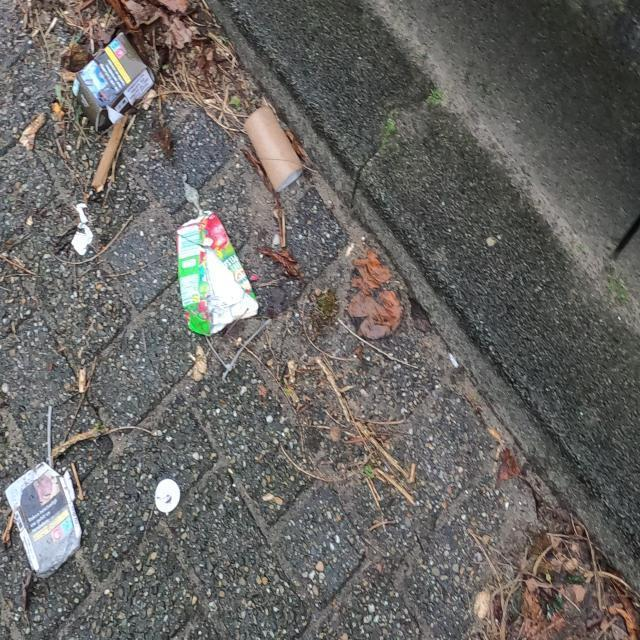Paper: (2, 458, 86, 581), (72, 30, 156, 133)
Plastic: (176, 208, 261, 338)
